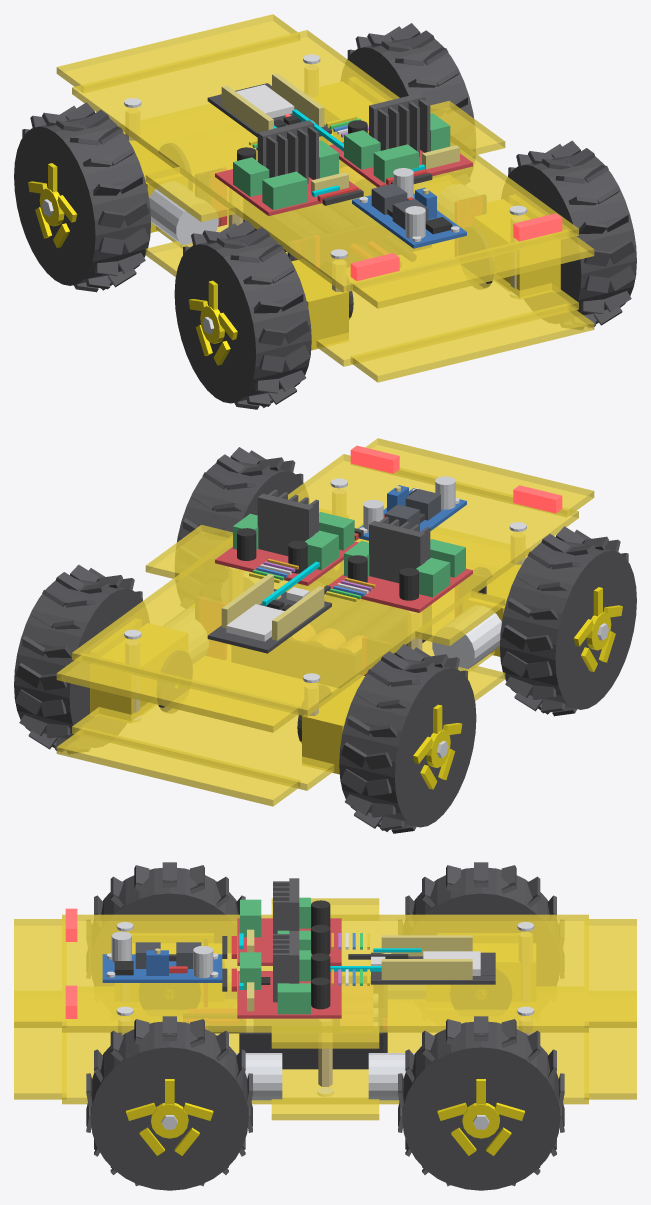
The model's file is robo_racer_car.glb.
The picture shows the model from 3 angles, top to bottom: view 1: azimuth 30°, elevation 25°; view 2: azimuth 150°, elevation 25°; view 3: azimuth 270°, elevation 25°; orthographic projection. The views are drawn at different scales.
Parts seen in each view (by area): view 1: chassis_top_deck, rear_left_wheel_pivot_tire_base, front_left_wheel_pivot_tire_base, chassis_bottom_deck, rear_right_wheel_pivot_tire_base, chassis_bottom_deck_bumper_rear, chassis_top_deck_bumper_rear, chassis_top_deck_bumper_front, rear_left_wheel_pivot, front_left_wheel_pivot, front_right_wheel_pivot_tire_base, rear_right_wheel_pivot (+38 smaller); view 2: chassis_top_deck, front_left_wheel_pivot_tire_base, rear_left_wheel_pivot_tire_base, chassis_bottom_deck, front_right_wheel_pivot_tire_base, chassis_bottom_deck_bumper_front, chassis_top_deck_bumper_front, front_left_wheel_pivot, rear_left_wheel_pivot, rear_right_wheel_pivot_tire_base, chassis_top_deck_bumper_rear, front_right_wheel_pivot (+36 smaller); view 3: chassis_top_deck, front_right_wheel_pivot_tire_base, rear_right_wheel_pivot_tire_base, chassis_bottom_deck, front_left_wheel_pivot_tire_base, rear_left_wheel_pivot_tire_base, chassis_top_deck_bumper_front, chassis_top_deck_bumper_rear, front_right_wheel_pivot, rear_right_wheel_pivot, battery_pack_wall_r, chassis_bottom_deck_bumper_rear (+40 smaller).
Boxes of the visible parts, <box> form: chassis_top_deck: <box>72,30,578,292</box>; rear_left_wheel_pivot_tire_base: <box>174,233,311,403</box>; front_left_wheel_pivot_tire_base: <box>14,116,150,285</box>; chassis_bottom_deck: <box>156,215,578,366</box>; rear_right_wheel_pivot_tire_base: <box>501,154,636,323</box>; chassis_bottom_deck_bumper_rear: <box>351,303,594,382</box>; chassis_top_deck_bumper_rear: <box>351,229,594,308</box>; chassis_top_deck_bumper_front: <box>56,14,299,93</box>; rear_left_wheel_pivot: <box>183,220,310,409</box>; front_left_wheel_pivot: <box>22,102,149,292</box>; front_right_wheel_pivot_tire_base: <box>341,37,475,177</box>; rear_right_wheel_pivot: <box>508,140,635,329</box>; chassis_top_deck: <box>72,454,578,716</box>; front_left_wheel_pivot_tire_base: <box>339,657,476,827</box>; rear_left_wheel_pivot_tire_base: <box>500,540,636,709</box>; chassis_bottom_deck: <box>72,640,494,790</box>; front_right_wheel_pivot_tire_base: <box>14,578,149,747</box>; chassis_bottom_deck_bumper_front: <box>56,727,299,806</box>; chassis_top_deck_bumper_front: <box>56,653,299,732</box>; front_left_wheel_pivot: <box>340,644,467,833</box>; rear_left_wheel_pivot: <box>501,526,628,716</box>; rear_right_wheel_pivot_tire_base: <box>175,461,309,601</box>; chassis_top_deck_bumper_rear: <box>351,438,594,517</box>; front_right_wheel_pivot: <box>15,564,142,753</box>; chassis_top_deck: <box>62,914,588,1032</box>; front_right_wheel_pivot_tire_base: <box>402,1021,560,1190</box>; rear_right_wheel_pivot_tire_base: <box>90,1021,248,1190</box>; chassis_bottom_deck: <box>62,1032,588,1104</box>; front_left_wheel_pivot_tire_base: <box>404,868,559,985</box>; rear_left_wheel_pivot_tire_base: <box>91,868,238,985</box>; chassis_top_deck_bumper_front: <box>584,919,636,1027</box>; chassis_top_deck_bumper_rear: <box>14,919,66,1027</box>; front_right_wheel_pivot: <box>398,1016,564,1186</box>; rear_right_wheel_pivot: <box>86,1016,252,1186</box>; battery_pack_wall_r: <box>239,1032,383,1069</box>; chassis_bottom_deck_bumper_rear: <box>14,1028,66,1099</box>.
Bounding box in the file's own units: 0.186 × 0.0881 × 0.26.
